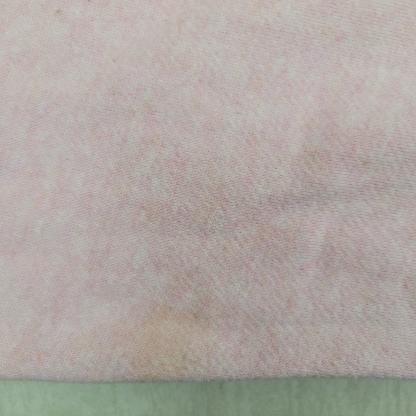spot: (144, 302, 197, 380), (54, 4, 66, 16)
